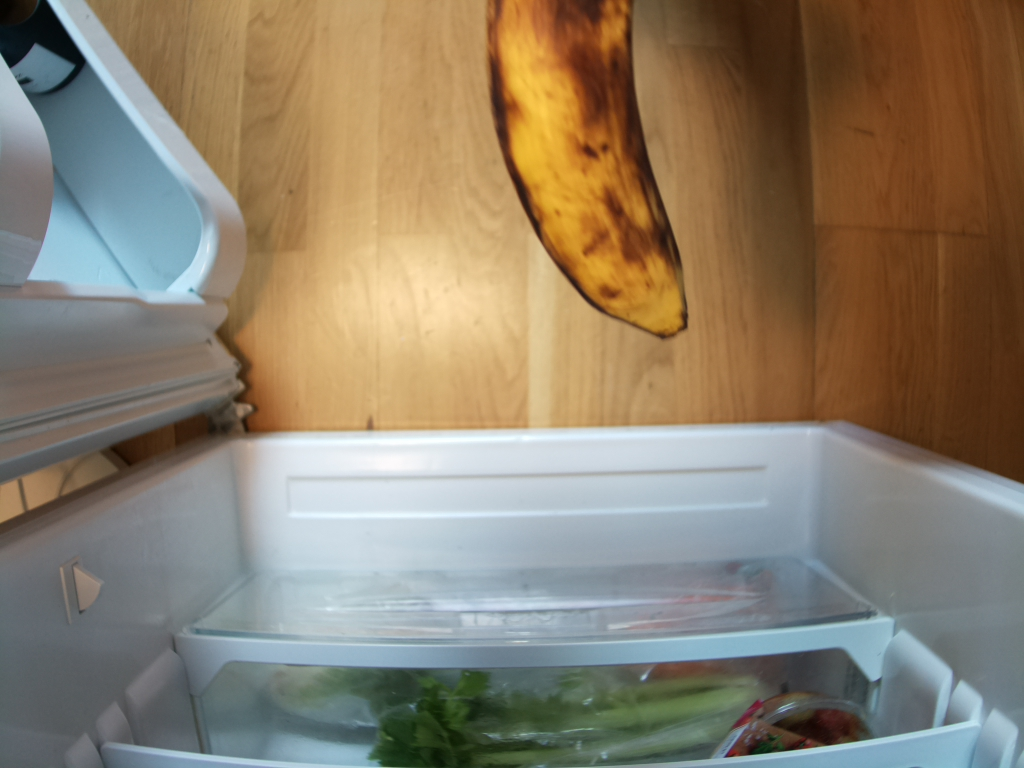banana-overripe: (487, 1, 689, 342)
